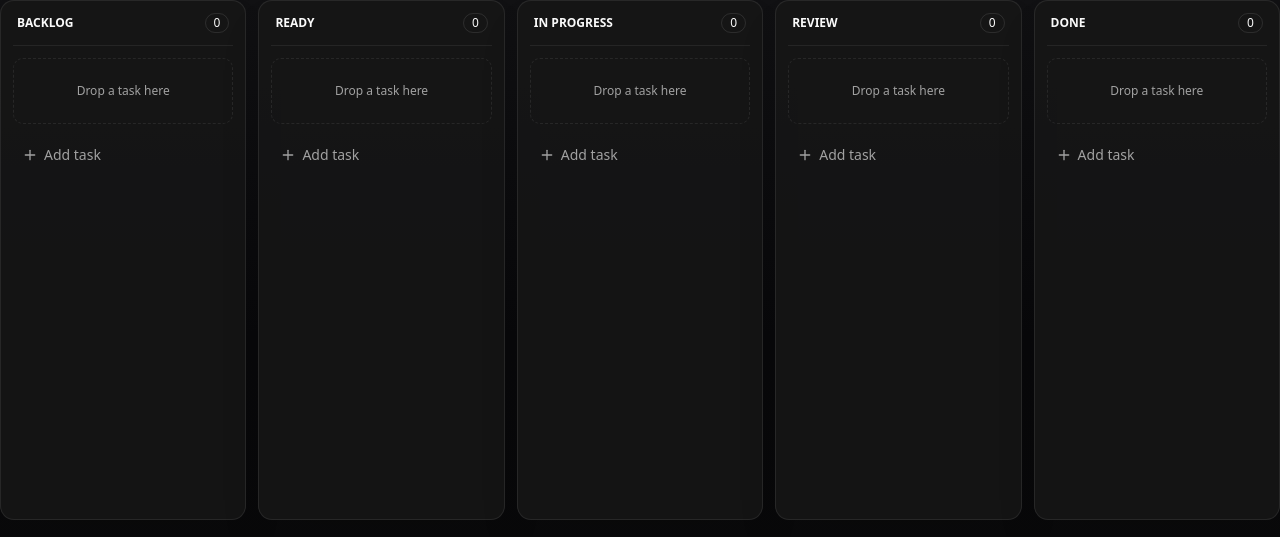
Test case: Board › creates a task in the backlog
Expected: the field labelled "Task title" is not shown
Click the button "Add task" below "Backlog".
click(123, 155)  # box x1=13 y1=136 x2=233 y2=174
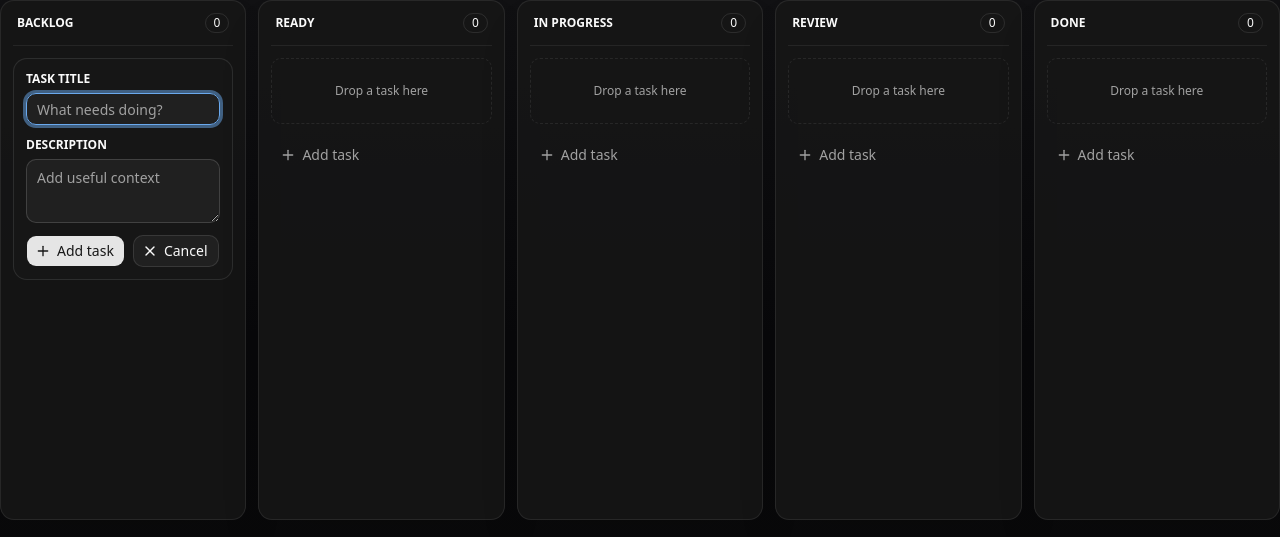
Type "Write release notes" into the field labelled "Task title".
click(123, 109); type("Write release notes")  # box x1=26 y1=93 x2=220 y2=125
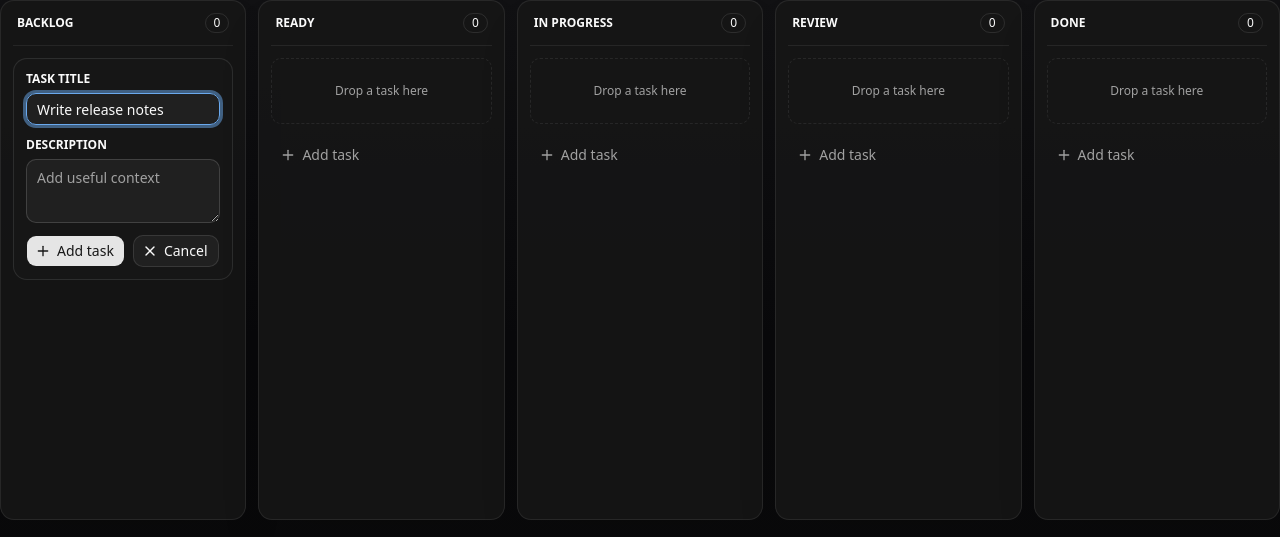
Type "Capture the important changes" into the text box labelled "Description".
click(123, 191); type("Capture the important changes")  # box x1=26 y1=159 x2=220 y2=223
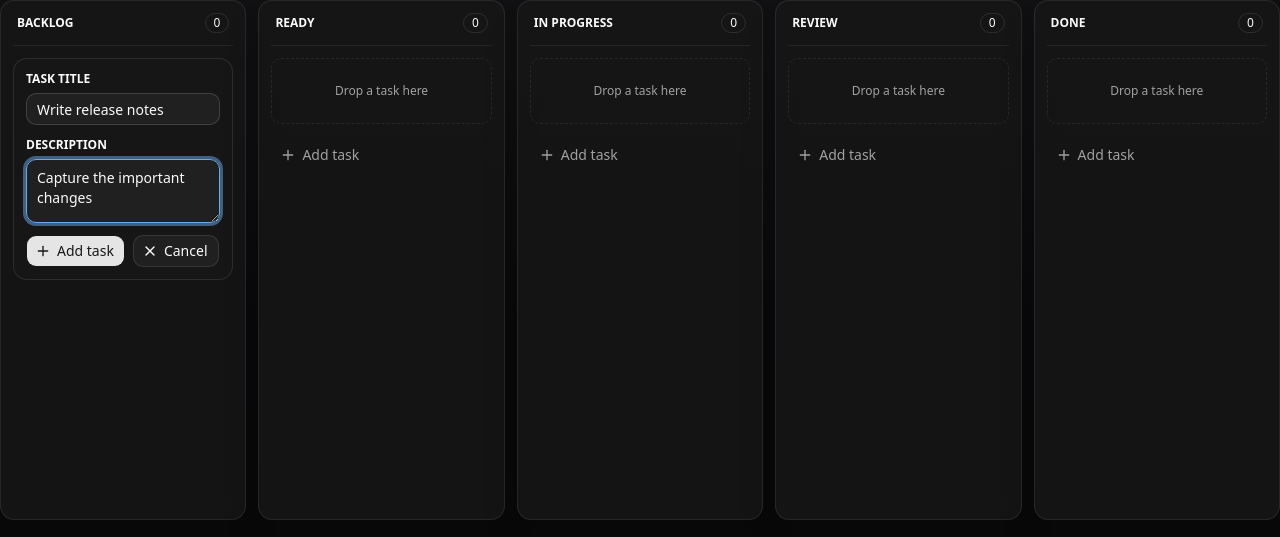
Click the button "Add task" below "Description".
click(75, 251)  # box x1=26 y1=235 x2=125 y2=267
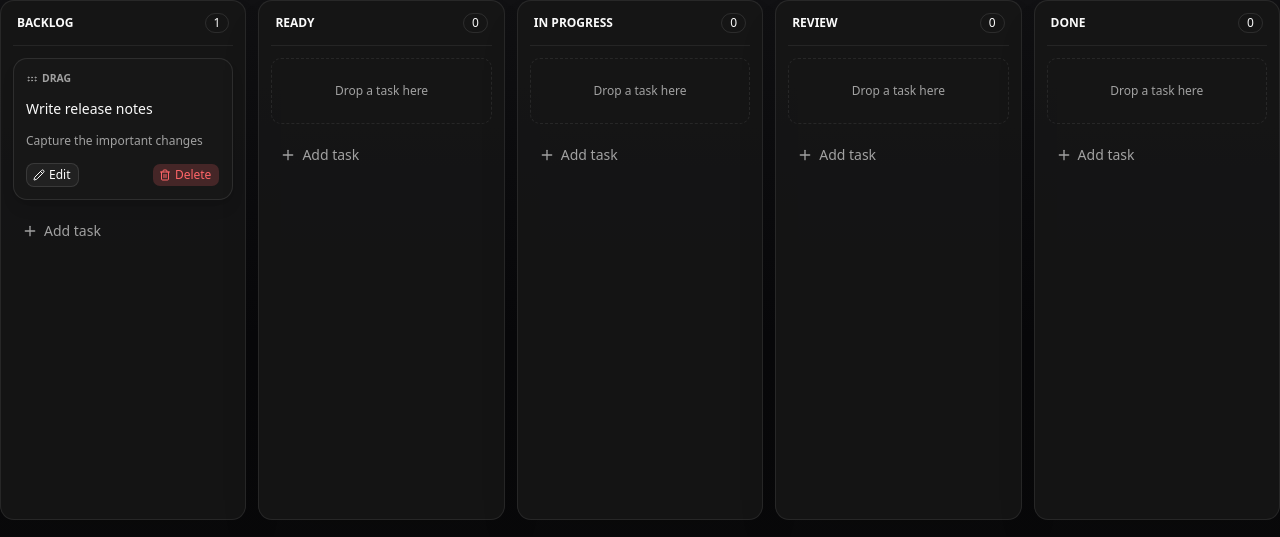
Expected: the heading "Write release notes" is shown, x1=26 y1=99 x2=153 y2=118
Expected: the text "Capture the important changes" is shown, x1=26 y1=131 x2=220 y2=151
Expected: the label labelled "Task title" is gone
